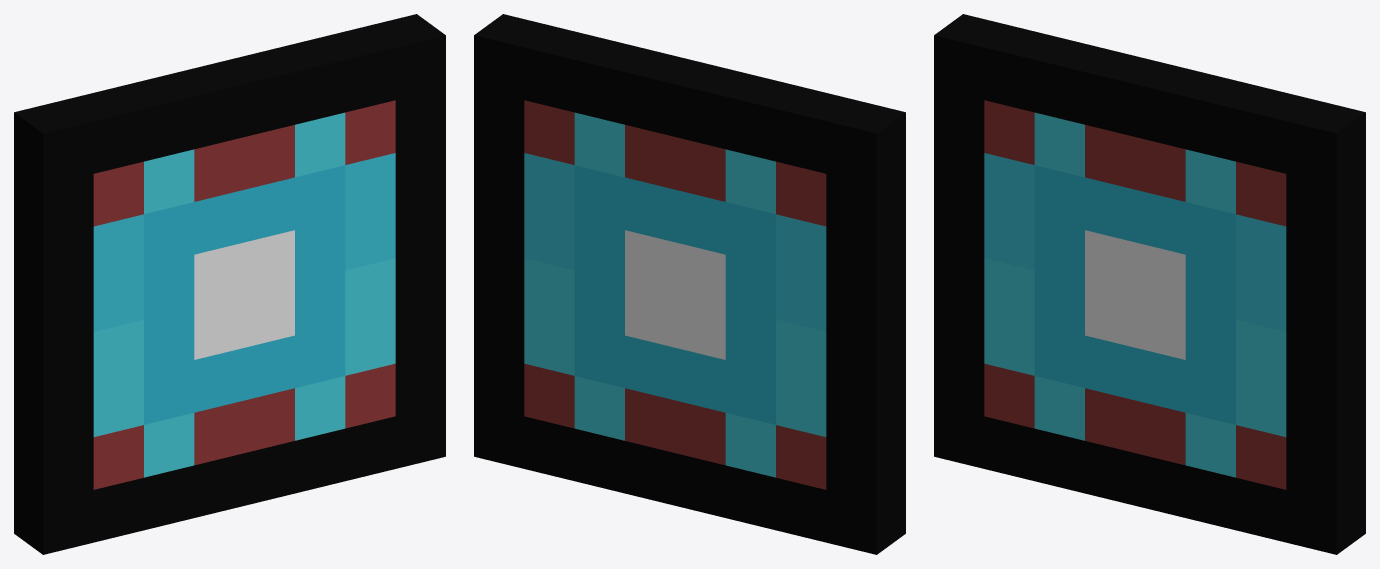
File: Draugr Warper Spawner Block.glb
3 renders of one model, left to right at view 1: azimuth 30°, elevation 25°; view 2: azimuth 150°, elevation 25°; view 3: azimuth 330°, elevation 25°, orthographic.
Visible parts, largest first — view 1: generated(Clone); view 2: generated(Clone); view 3: generated(Clone).
Boxes of the visible parts, x1,y1,x2,y2 form: generated(Clone): [14, 14, 445, 554]; generated(Clone): [474, 14, 905, 554]; generated(Clone): [934, 14, 1365, 554].
Bounding box in the file's own units: 8 × 8 × 1.
1 material, 1 textured.
